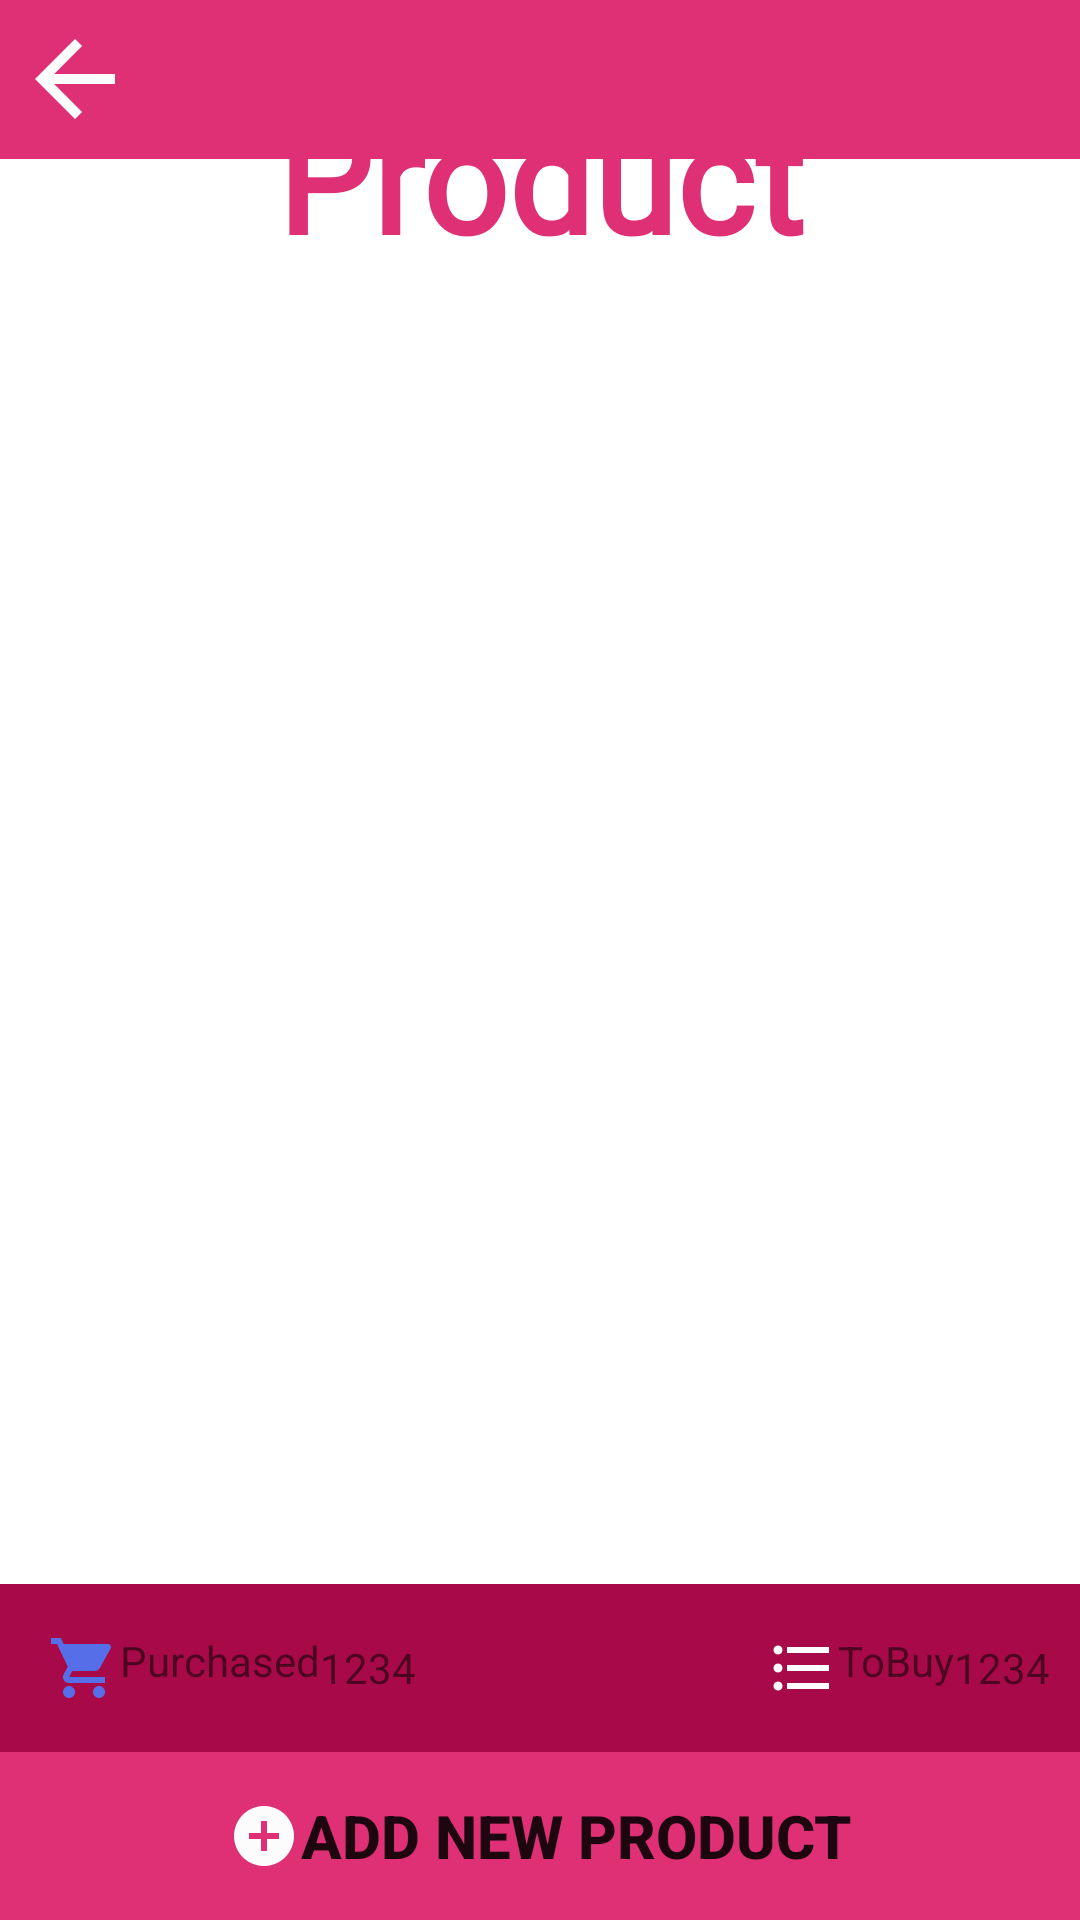

Icons on this 1080x1920 Android screen, each with the point to tap as (x=x, y=y):
arrow back: (x=75, y=79)
